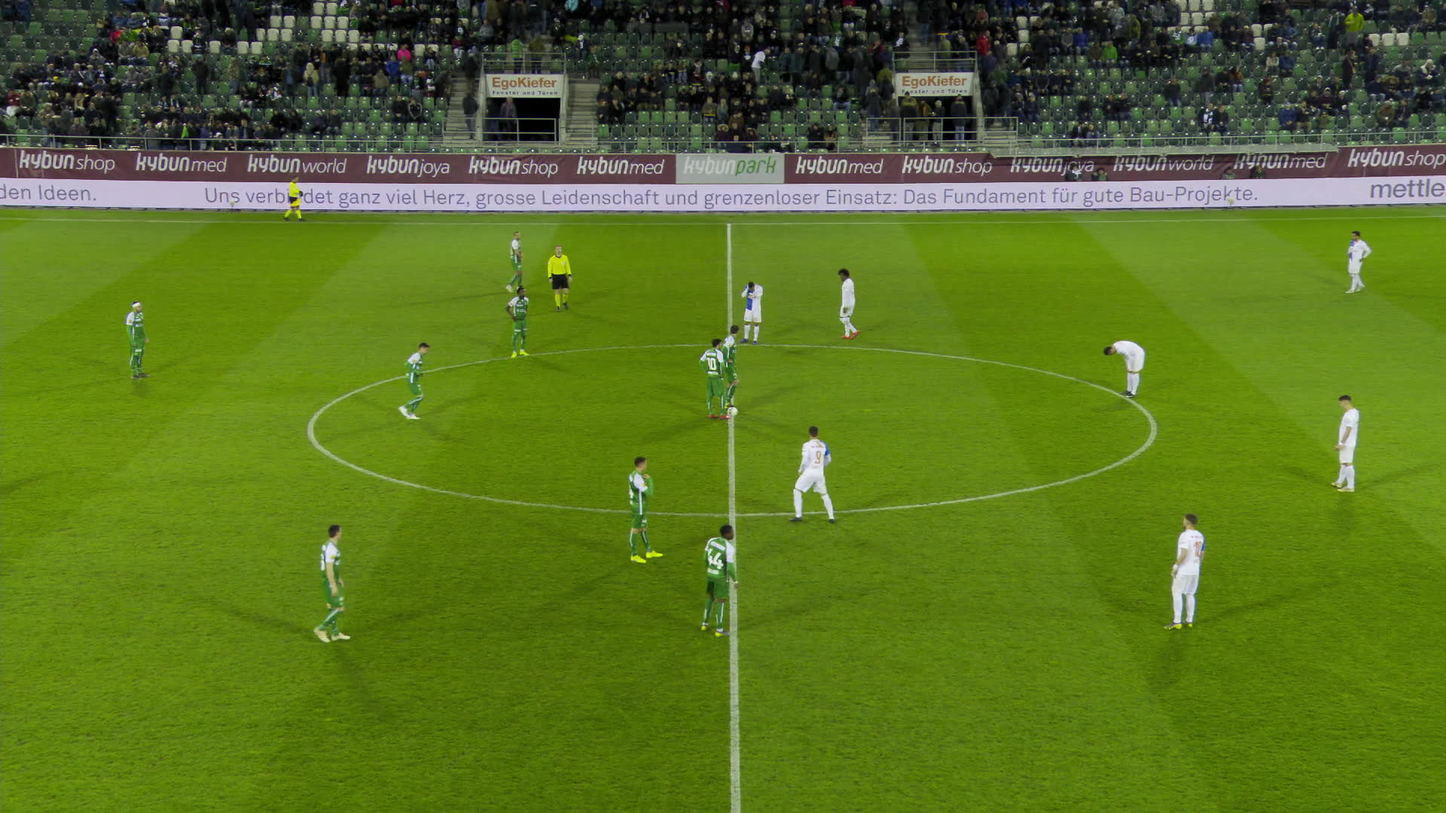ball: (726, 404, 737, 415)
player: (295, 522, 358, 641), (782, 427, 838, 525), (1165, 514, 1208, 632), (694, 521, 738, 634), (623, 450, 661, 563), (1327, 393, 1366, 490), (400, 338, 431, 422), (699, 335, 731, 415), (1103, 334, 1143, 397), (117, 300, 145, 379), (830, 269, 859, 341), (712, 328, 737, 410), (505, 279, 530, 356), (1344, 230, 1373, 294), (742, 278, 767, 345), (500, 232, 526, 294)
referee: (545, 244, 576, 310), (283, 176, 304, 221)
